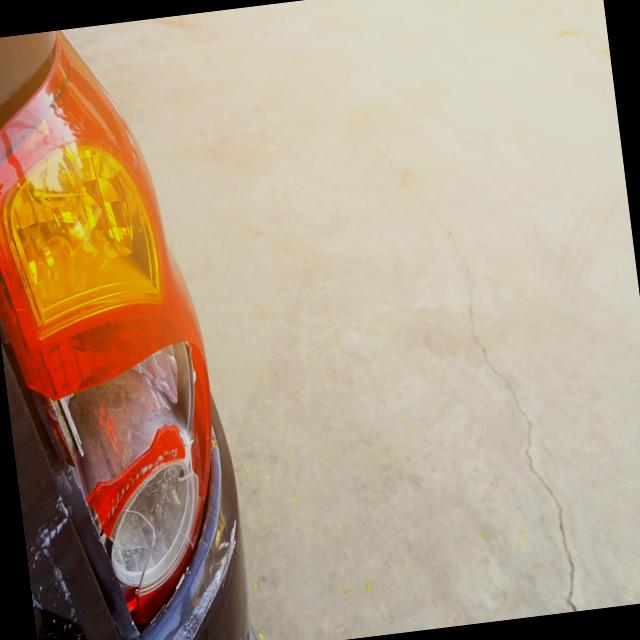Phare abime: (4, 331, 227, 614)
